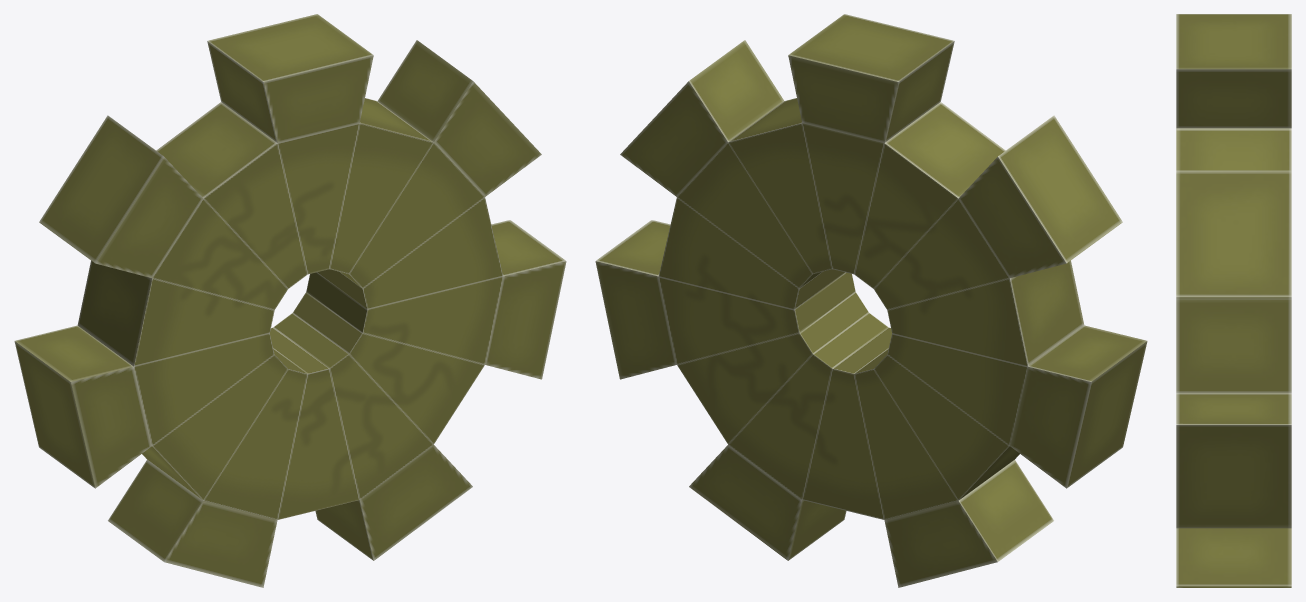
The model's file is Ancient_Gear_Piece.fbx.
The picture shows the model from 3 angles, left to right: view 1: azimuth 30°, elevation 25°; view 2: azimuth 150°, elevation 25°; view 3: azimuth 270°, elevation 25°; orthographic projection. The views are drawn at different scales.
Parts seen in each view (by area): view 1: pCylinder1; view 2: pCylinder1; view 3: pCylinder1.
Boxes of the visible parts, box(x1,y1,x2,y2) form: pCylinder1: box(14, 14, 566, 587); pCylinder1: box(595, 14, 1147, 587); pCylinder1: box(1176, 14, 1291, 587).
Size of the model in its own units: 10.16 by 9.91 by 2.
1 material, 1 textured.
